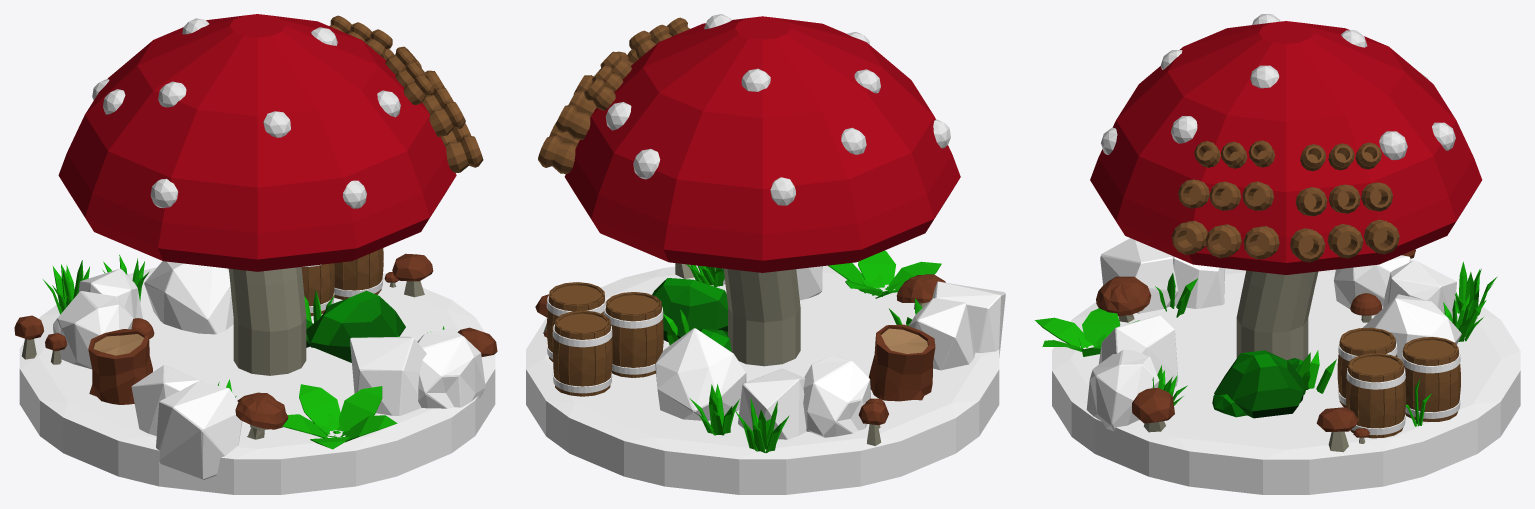
Rendered from defence_Nam_5.fbx.
3 renders of one model, left to right at view 1: azimuth 30°, elevation 25°; view 2: azimuth 150°, elevation 25°; view 3: azimuth 270°, elevation 25°, orthographic.
Visible parts, largest first — view 1: Turret_2_Level_5_Base, Turret_2_Level_5_Weapon; view 2: Turret_2_Level_5_Base, Turret_2_Level_5_Weapon; view 3: Turret_2_Level_5_Base, Turret_2_Level_5_Weapon.
Boxes of the visible parts, <box> form: Turret_2_Level_5_Base: <box>14,248,497,494</box>; Turret_2_Level_5_Weapon: <box>58,14,483,271</box>; Turret_2_Level_5_Base: <box>526,250,1005,494</box>; Turret_2_Level_5_Weapon: <box>538,14,960,272</box>; Turret_2_Level_5_Base: <box>1034,238,1520,494</box>; Turret_2_Level_5_Weapon: <box>1090,14,1482,274</box>.
Bounding box in the file's own units: 385 × 331 × 399.
